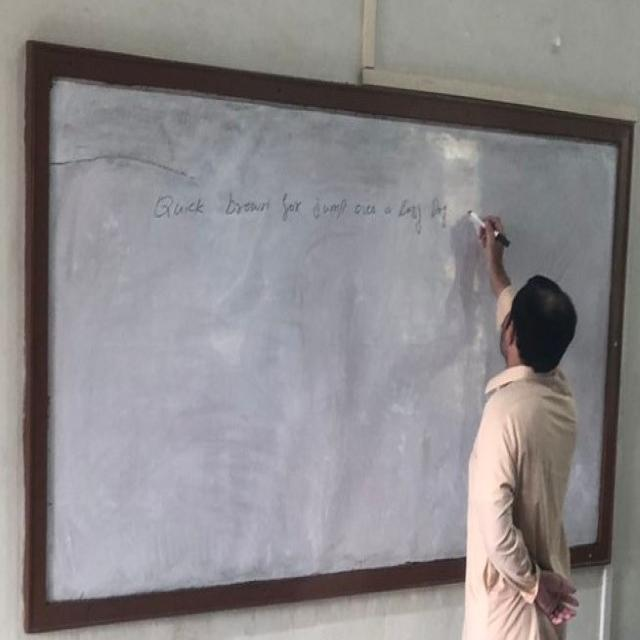Instructor: (453, 253, 609, 639)
White-board: (41, 50, 626, 617)
